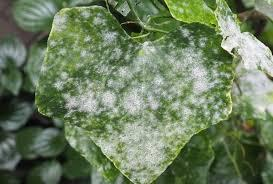powdery_mildew: (30, 12, 257, 174)
